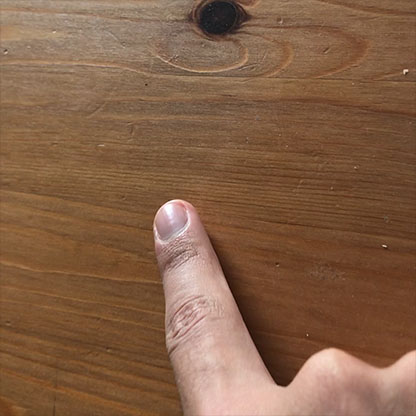fingertip: (146, 190, 219, 262)
